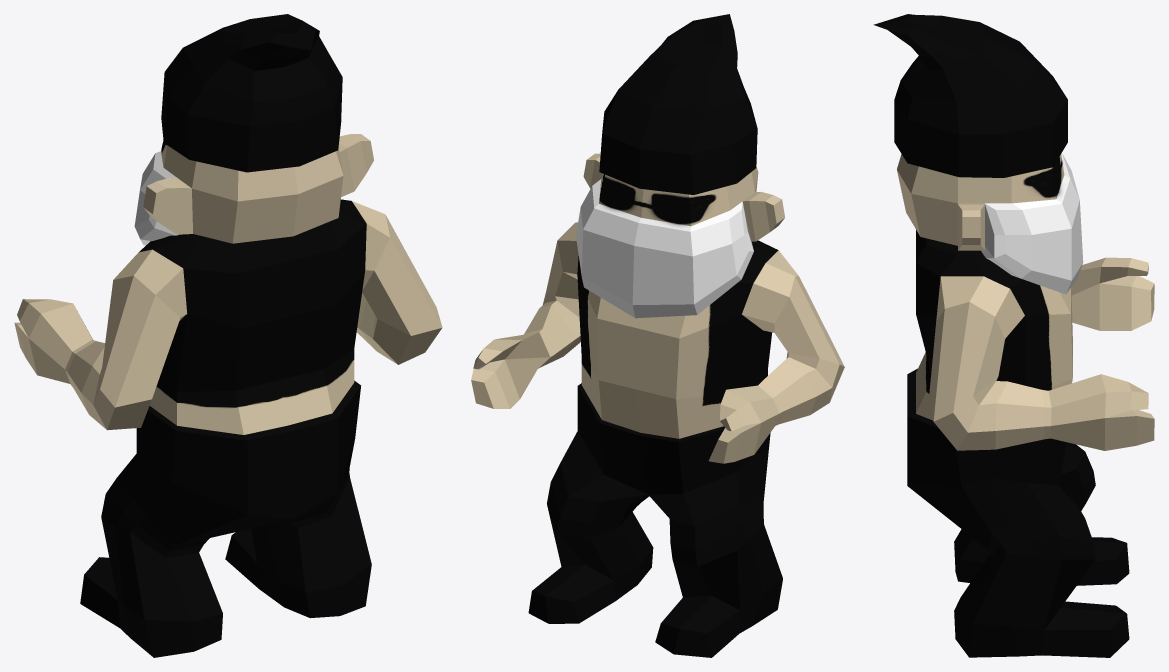
Rendered from Knome1.fbx.
The picture shows the model from 3 angles, left to right: view 1: azimuth 30°, elevation 25°; view 2: azimuth 150°, elevation 25°; view 3: azimuth 270°, elevation 25°; orthographic projection. The views are drawn at different scales.
Parts seen in each view (by area): view 1: Cube, Cube.001; view 2: Cube, Cube.001; view 3: Cube, Cube.001.
Boxes of the visible parts, x1=… form: Cube: x1=14, y1=134, x2=442, y2=657; Cube.001: x1=161, y1=14, x2=342, y2=172; Cube: x1=471, y1=153, x2=844, y2=657; Cube.001: x1=599, y1=14, x2=757, y2=194; Cube: x1=897, y1=153, x2=1154, y2=657; Cube.001: x1=873, y1=14, x2=1067, y2=177.
Size of the model in its own units: 260 by 462 by 200.
